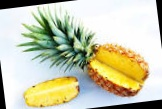Pineapple: (21, 7, 150, 96)
